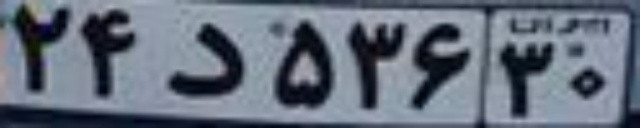0: (564, 67, 604, 100)
2: (10, 5, 70, 91)
3: (343, 22, 406, 107), (496, 41, 555, 117)
4: (80, 8, 135, 97)
5: (271, 22, 335, 106)
6: (410, 24, 472, 110)
dal: (159, 22, 249, 96)
